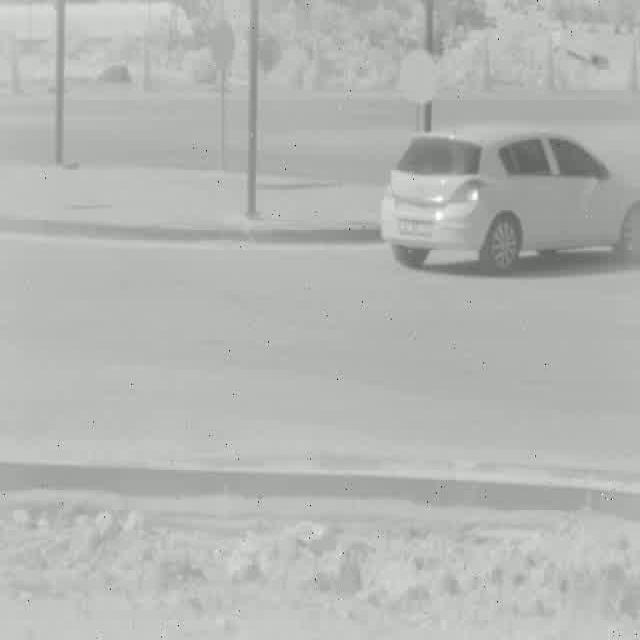Car: (383, 126, 640, 272)
